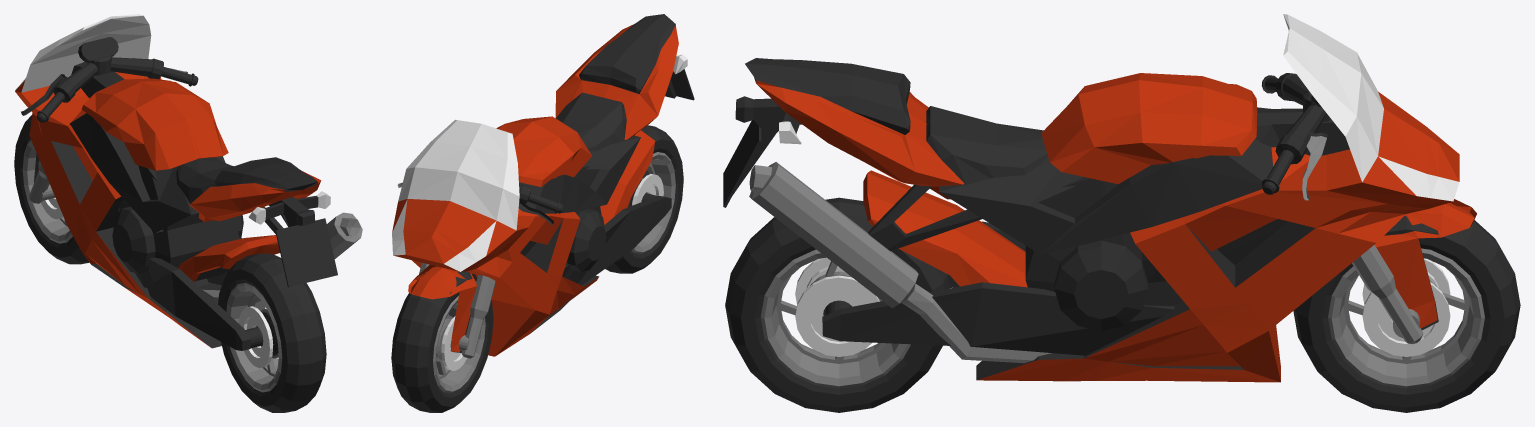
Rendered from moto_storm.glb.
3 views of the same model, side by side, from view 1: azimuth 30°, elevation 25°; view 2: azimuth 150°, elevation 25°; view 3: azimuth 270°, elevation 25° (orthographic). The views are drawn at different scales.
Visible parts, largest first — view 1: Motorcycle; view 2: Motorcycle; view 3: Motorcycle.
Boxes of the visible parts, x1=… form: Motorcycle: x1=14, y1=14, x2=362, y2=412; Motorcycle: x1=391, y1=14, x2=694, y2=412; Motorcycle: x1=723, y1=14, x2=1520, y2=412.
Bounding box in the file's own units: 42.86 × 67.18 × 127.
Materials: 1 (1 with a texture image).
